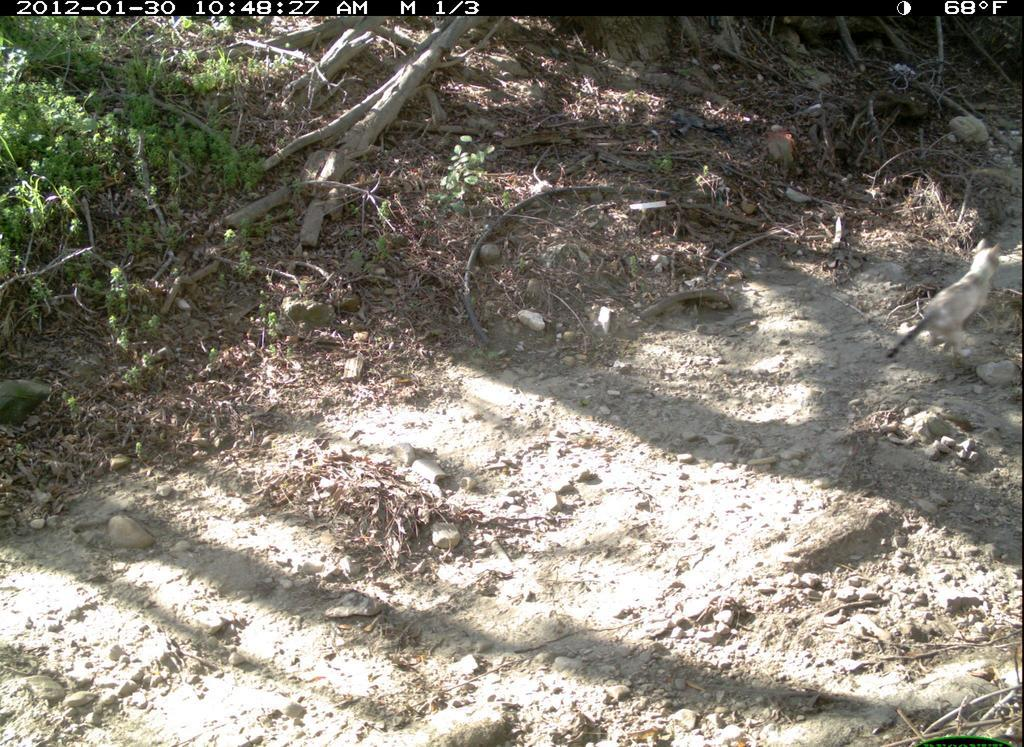cat: (882, 235, 1009, 376)
